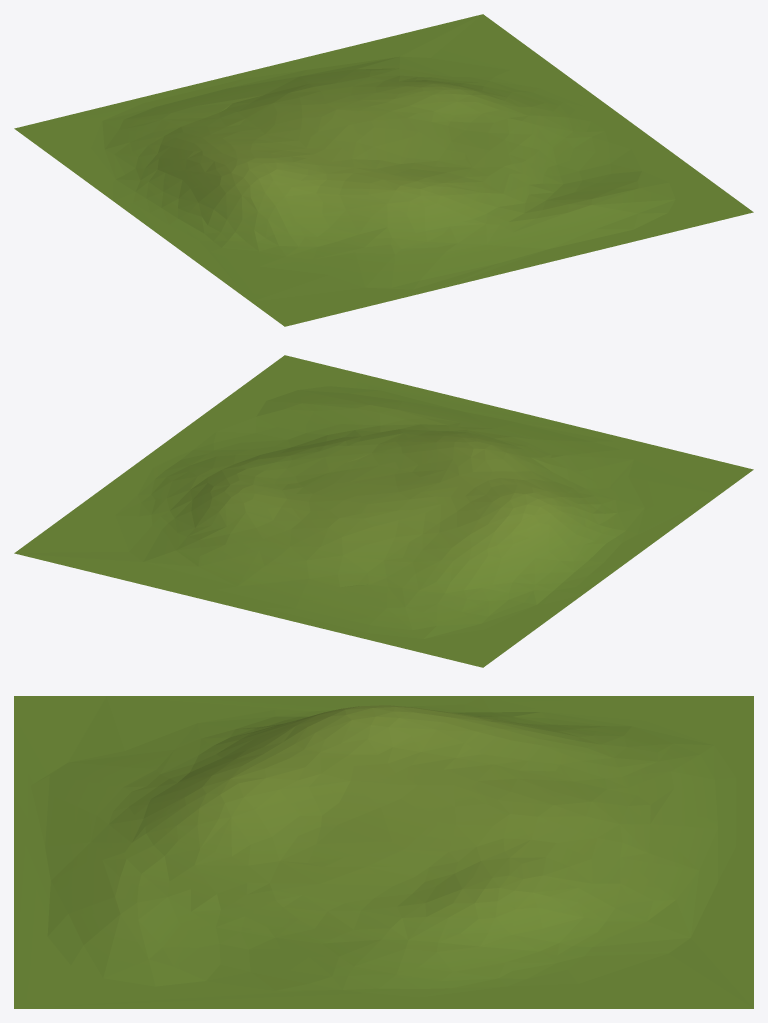
File: Terrain_04.glb
3 views of the same model, one above another, from view 1: azimuth 30°, elevation 25°; view 2: azimuth 150°, elevation 25°; view 3: azimuth 270°, elevation 25° (orthographic). The views are drawn at different scales.
Visible parts, largest first — view 1: Terrain_04; view 2: Terrain_04; view 3: Terrain_04.
Boxes of the visible parts, <box> form: Terrain_04: <box>14,14,753,326</box>; Terrain_04: <box>14,355,753,667</box>; Terrain_04: <box>14,696,753,1008</box>.
Size of the model in its own units: 128 by 10.45 by 128.
Materials: 1 (1 with a texture image).
